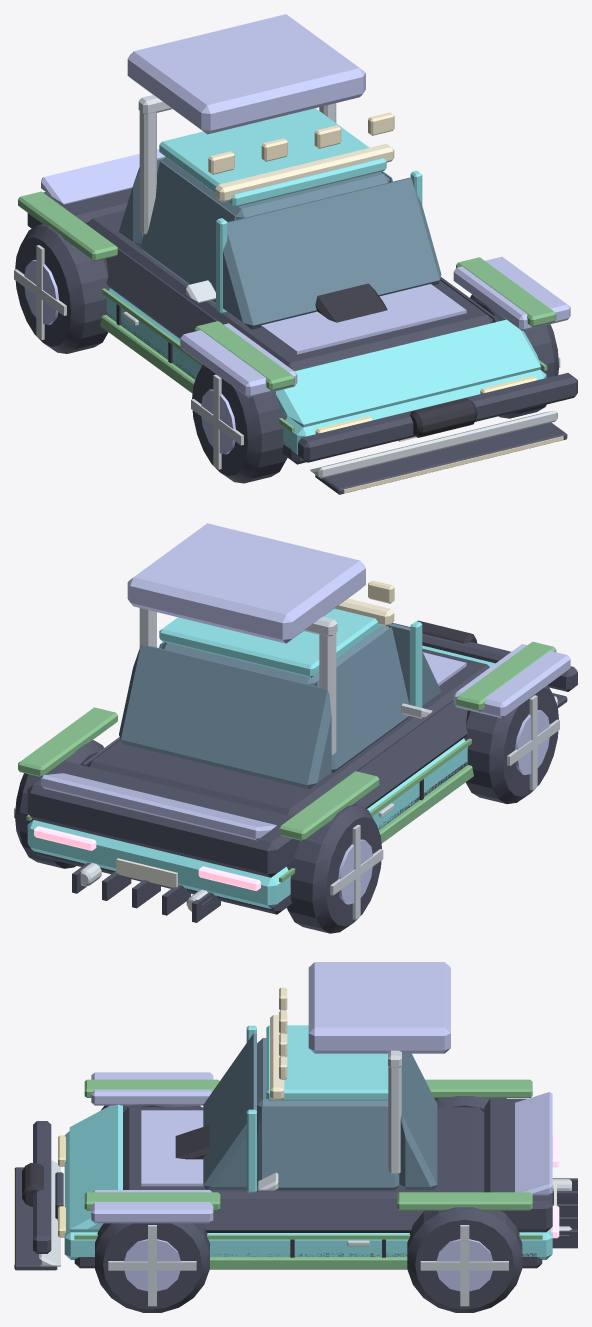
The model's file is stormtrail_x.fbx.
The picture shows the model from 3 angles, top to bottom: view 1: azimuth 30°, elevation 25°; view 2: azimuth 150°, elevation 25°; view 3: azimuth 270°, elevation 25°; orthographic projection. The views are drawn at different scales.
Visible parts, largest first — view 1: Accent3, Glass, Body, Trim, Accent, Wheel_RR, Accent2, Wheel_FR, Trim2, Light, Metal, Light4 (+3 smaller); view 2: Trim, Glass, Accent3, Body, Accent, Wheel_RR, Wheel_FR, Metal, Accent2, Metal2, Wheel_RL, Light3 (+3 smaller); view 3: Accent3, Trim, Glass, Body, Accent, Wheel_RL, Wheel_FL, Metal, Metal2, Accent2, Trim2, Light (+4 smaller).
Part boxes in pixels (<box>): Accent3: <box>41,14,570,397</box>; Glass: <box>119,156,441,329</box>; Body: <box>106,108,546,454</box>; Trim: <box>27,188,577,494</box>; Accent: <box>18,191,556,432</box>; Wheel_RR: <box>15,224,109,353</box>; Accent2: <box>138,95,557,478</box>; Wheel_FR: <box>192,364,287,483</box>; Trim2: <box>116,283,477,437</box>; Light: <box>208,112,563,493</box>; Metal: <box>14,245,560,469</box>; Light4: <box>215,143,394,202</box>; Trim: <box>27,622,577,922</box>; Glass: <box>119,623,441,789</box>; Accent3: <box>41,523,570,840</box>; Body: <box>27,608,495,908</box>; Accent: <box>18,641,556,882</box>; Wheel_RR: <box>286,804,381,933</box>; Wheel_FR: <box>464,685,558,803</box>; Metal: <box>14,695,559,919</box>; Accent2: <box>139,608,557,755</box>; Metal2: <box>338,710,549,904</box>; Wheel_RL: <box>15,740,103,868</box>; Light3: <box>34,826,260,891</box>; Accent3: <box>91,962,552,1223</box>; Trim: <box>14,1098,577,1270</box>; Glass: <box>203,1033,437,1190</box>; Body: <box>64,1025,552,1259</box>; Accent: <box>74,1079,542,1269</box>; Wheel_RL: <box>407,1207,522,1312</box>; Wheel_FL: <box>95,1223,209,1312</box>; Metal: <box>108,1179,571,1306</box>; Metal2: <box>124,1239,492,1291</box>; Accent2: <box>39,1050,401,1266</box>; Trim2: <box>22,1125,385,1257</box>; Light: <box>14,987,287,1267</box>.
Bounding box in the file's own units: 3.26 × 2.77 × 5.55.
